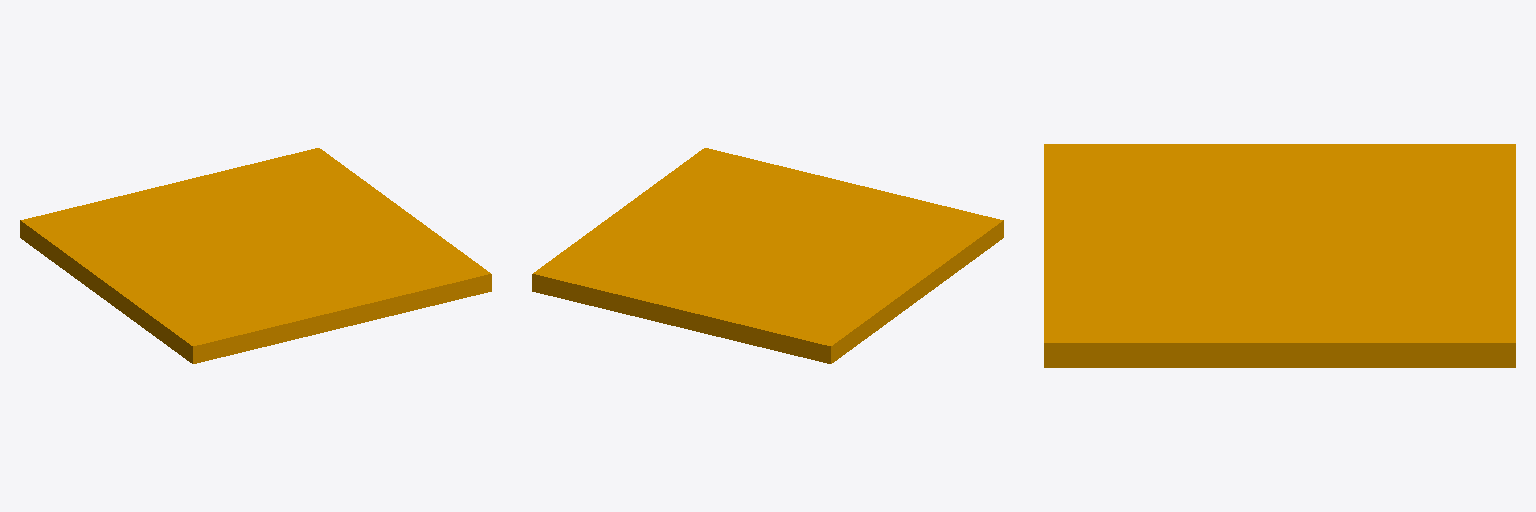
URDF robot description (ar_tag):
<?xml version="1.0" ?>
<robot name="ar_tag" xmlns:xacro="http://ros.org/wiki/xacro">

    <link name="ar_tag_link">
        <visual>
            <origin rpy="0 0 0" xyz="0 0 0"/>
            <geometry>
                <mesh filename="package://underwater_sim/models/meshes/tags/ar_tag_0.dae" scale="0.001 0.001 0.001"/>
            </geometry>
        </visual>
        <collision name="base_link_collision">
            <origin rpy="0 0 0" xyz="0 0 0"/>
            <geometry>
                <mesh filename="package://underwater_sim/models/meshes/tags/ar_tag_0.dae" scale="0.001 0.001 0.001"/>
            </geometry>
        </collision>
    
        <inertial>
            <mass value="95.78"/>
            <inertia ixx="57.28" ixy="0.00" ixz="-0.23" iyy="57.28" iyz="0.00" izz="6.09"/>
        </inertial>
    </link>
    
    <link name="dummy_link"/>
    
    <joint name="dummy_joint" type="fixed">
        <origin xyz="0 0 0"/>
        <parent link="ar_tag_link"/>
        <child link="dummy_link"/>
    </joint>

</robot>

--- What the picture shows (computed from the rendered views, not written in the file) ---
The picture shows the robot from 3 angles, left to right: view 1: azimuth 30°, elevation 25°; view 2: azimuth 150°, elevation 25°; view 3: azimuth 270°, elevation 25°; orthographic projection.
Model ar_tag with 2 links and 1 joints (1 fixed), rooted at ar_tag_link, posed all joints at 0.
Links seen in each view (by area): view 1: ar_tag_link; view 2: ar_tag_link; view 3: ar_tag_link.
Boxes of the visible links, x1,y1,x2,y2 form: ar_tag_link: (20, 148, 491, 363); ar_tag_link: (532, 148, 1003, 363); ar_tag_link: (1044, 144, 1515, 367).
Bounding box of the posed robot: 0.0002 × 0.0002 × 0 m (x, y, z).
Meshes: 1 distinct files referenced, 1 mesh visuals loaded (1 Collada DAE).